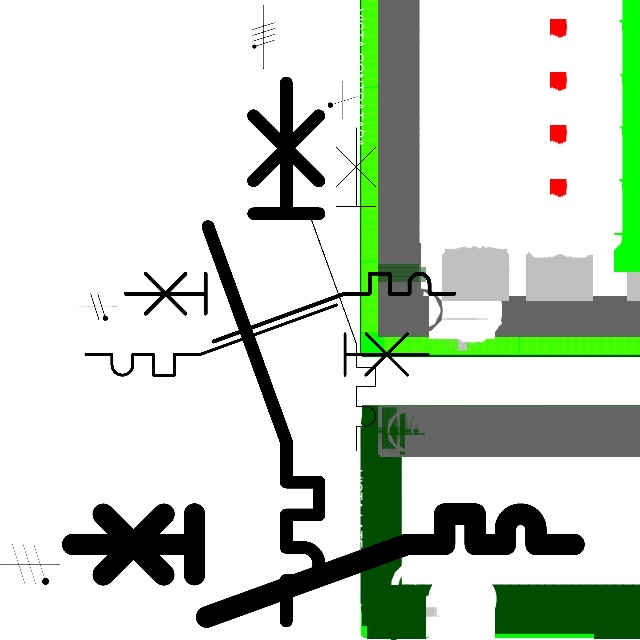interruptor_termomagnetico: (194, 69, 333, 635), (59, 501, 586, 630), (77, 296, 437, 384), (117, 265, 463, 349), (301, 119, 384, 459)
